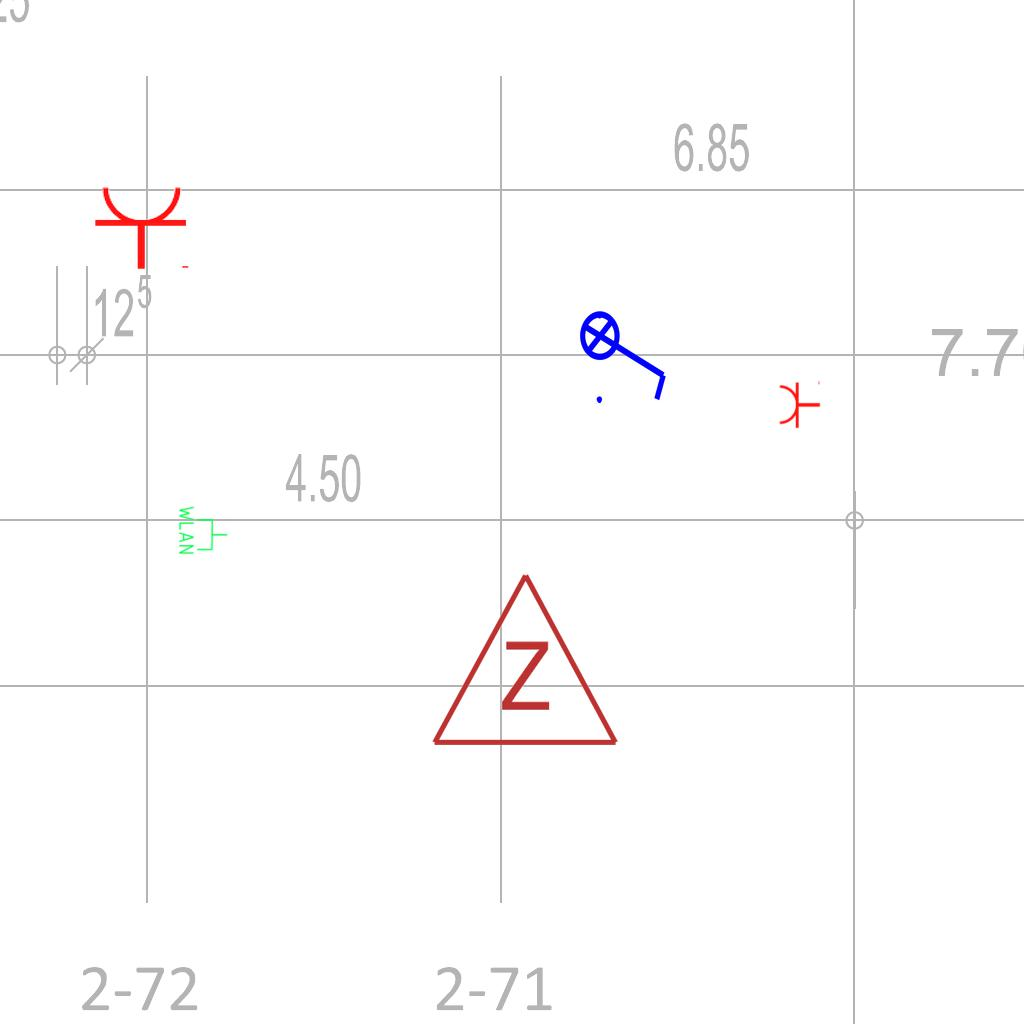Ausschalter_beleuchtet: (578, 297, 674, 409)
Schukosteckdose_einfach: (93, 184, 193, 271), (778, 379, 821, 429)
WLAN: (177, 504, 229, 556)
Zimmersignalleuchte: (425, 560, 621, 760)
